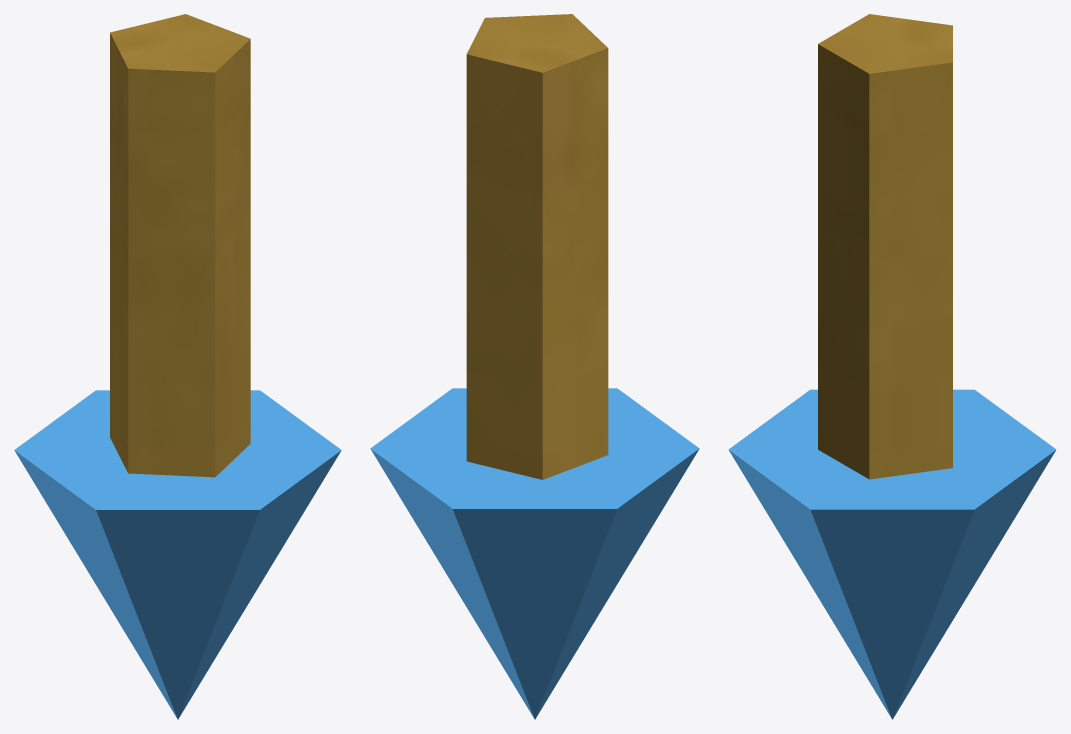
File: acc_earring.glb
The picture shows the model from 3 angles, left to right: view 1: azimuth 30°, elevation 25°; view 2: azimuth 150°, elevation 25°; view 3: azimuth 270°, elevation 25°; orthographic projection.
Visible parts, largest first — view 1: acc_earring; view 2: acc_earring; view 3: acc_earring.
Boxes of the visible parts, x1,y1,x2,y2 form: acc_earring: [14, 14, 341, 719]; acc_earring: [370, 14, 699, 719]; acc_earring: [728, 14, 1056, 719].
Size of the model in its own units: 0.0381 by 0.1 by 0.044.
Materials: 2 (2 with a texture image).
